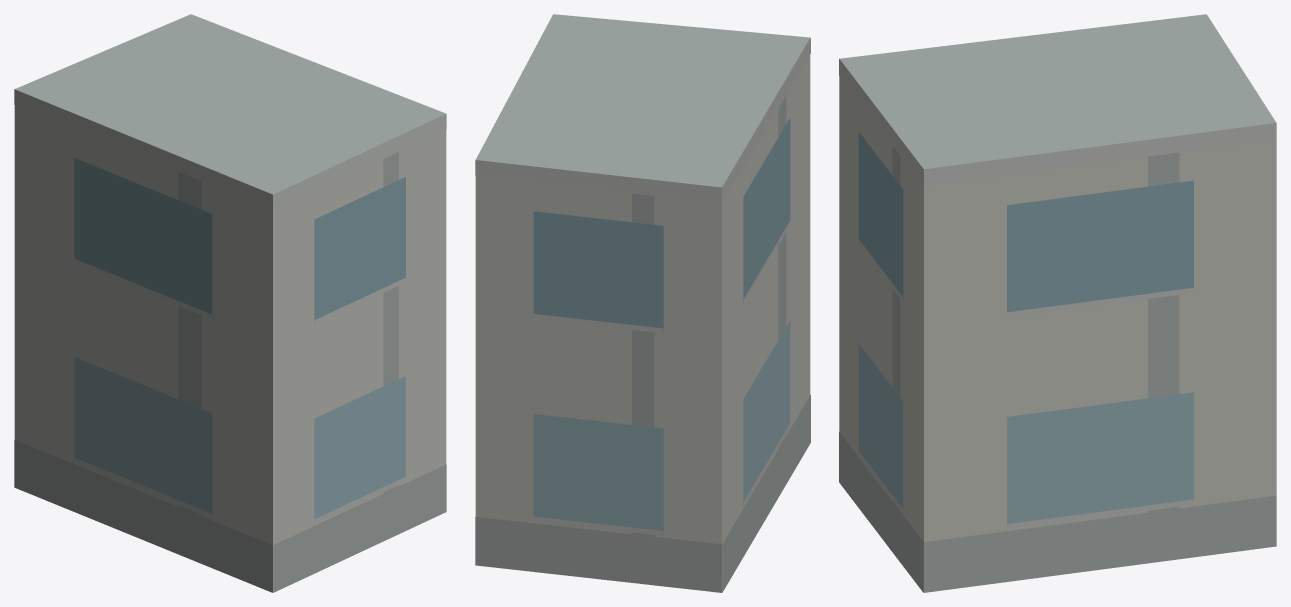
Rendered from survey-upis-32978468.glb.
The picture shows the model from 3 angles, left to right: view 1: azimuth 30°, elevation 25°; view 2: azimuth 150°, elevation 25°; view 3: azimuth 270°, elevation 25°; orthographic projection. The views are drawn at different scales.
Parts seen in each view (by area): view 1: survey-upis-32978468.tmp; view 2: survey-upis-32978468.tmp; view 3: survey-upis-32978468.tmp.
Part boxes in pixels (x1=…): survey-upis-32978468.tmp: x1=14, y1=14, x2=446, y2=592; survey-upis-32978468.tmp: x1=475, y1=14, x2=810, y2=592; survey-upis-32978468.tmp: x1=839, y1=14, x2=1276, y2=592.
Bounding box in the file's own units: 4.8 × 6.1 × 5.72.
